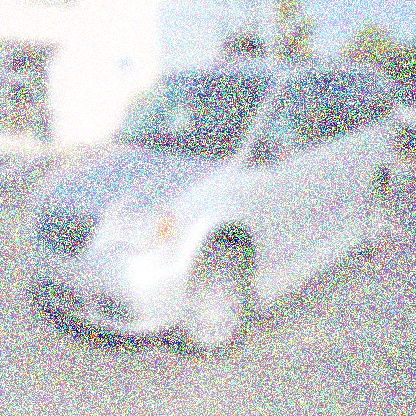Vehicle: (25, 59, 400, 357)
